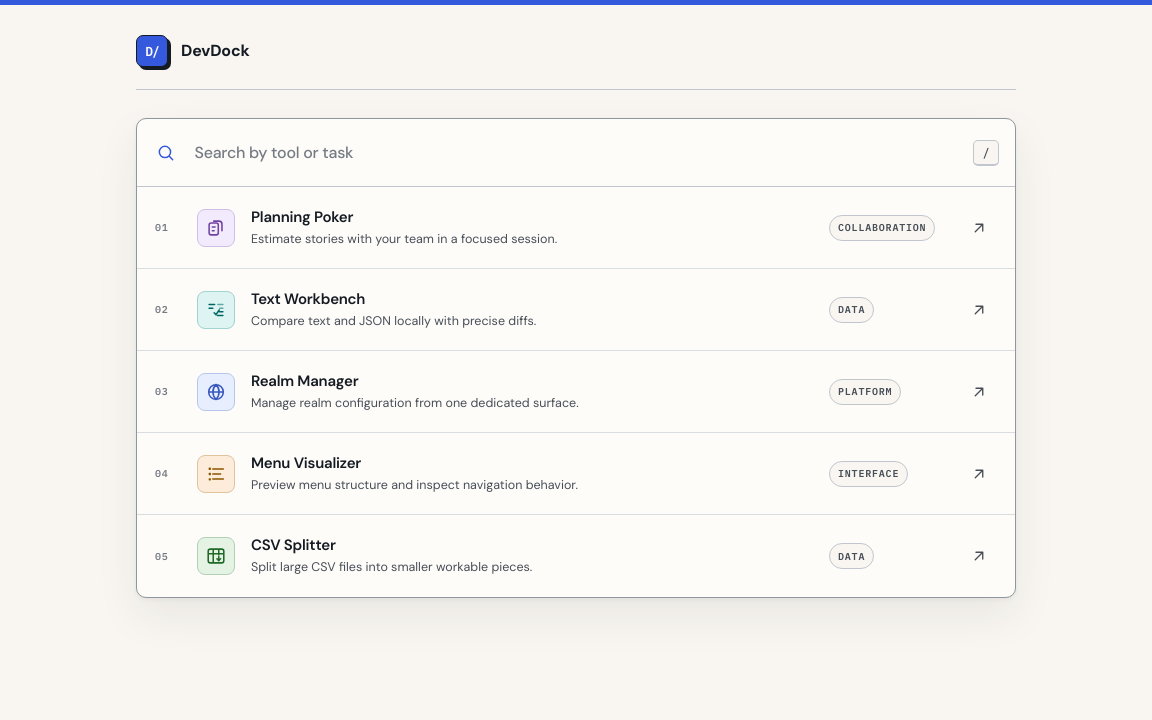
DevDock › filters tools by name and description
Type "realm" into the search field named "search tools" at (605,152), box [194,119,1015,186]
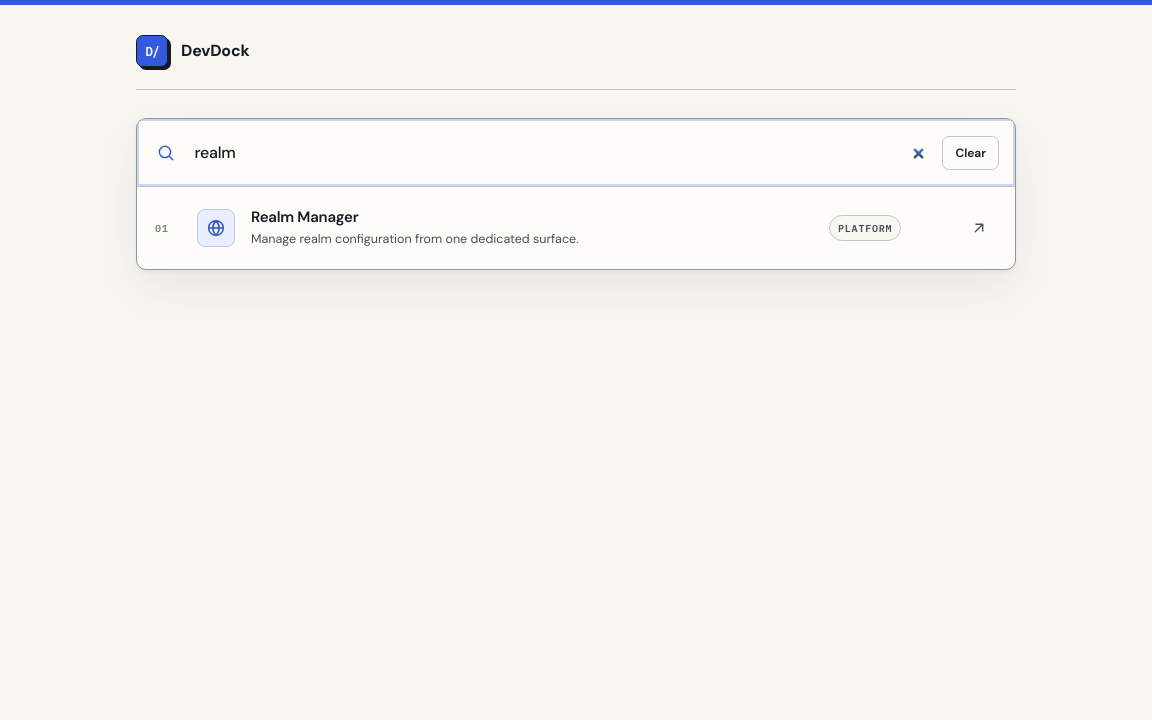
Expected: the text "Realm Manager" is shown, [251,207,358,227]
Expected: the link "Planning Poker" is gone
Replace the text in the search field named "search tools" with "large CSV files" at (605,152), box [194,119,1015,186]
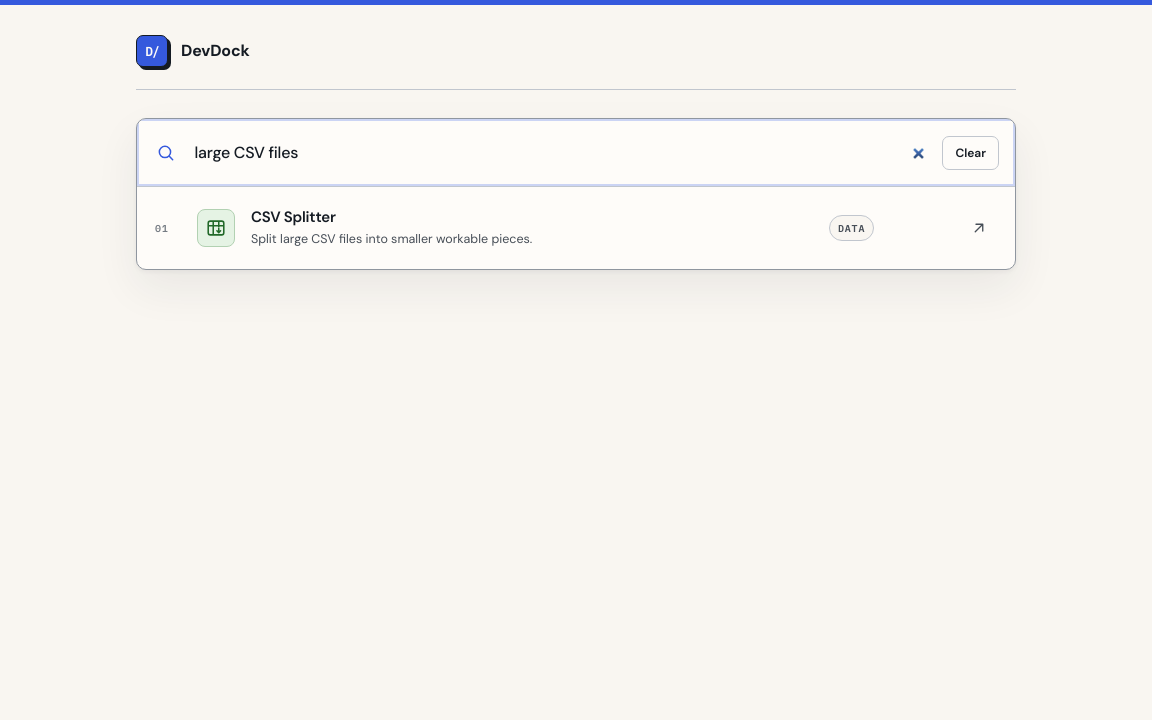
Expected: the text "CSV Splitter" is shown, [251,207,336,227]
Expected: the link "Planning Poker" is gone
